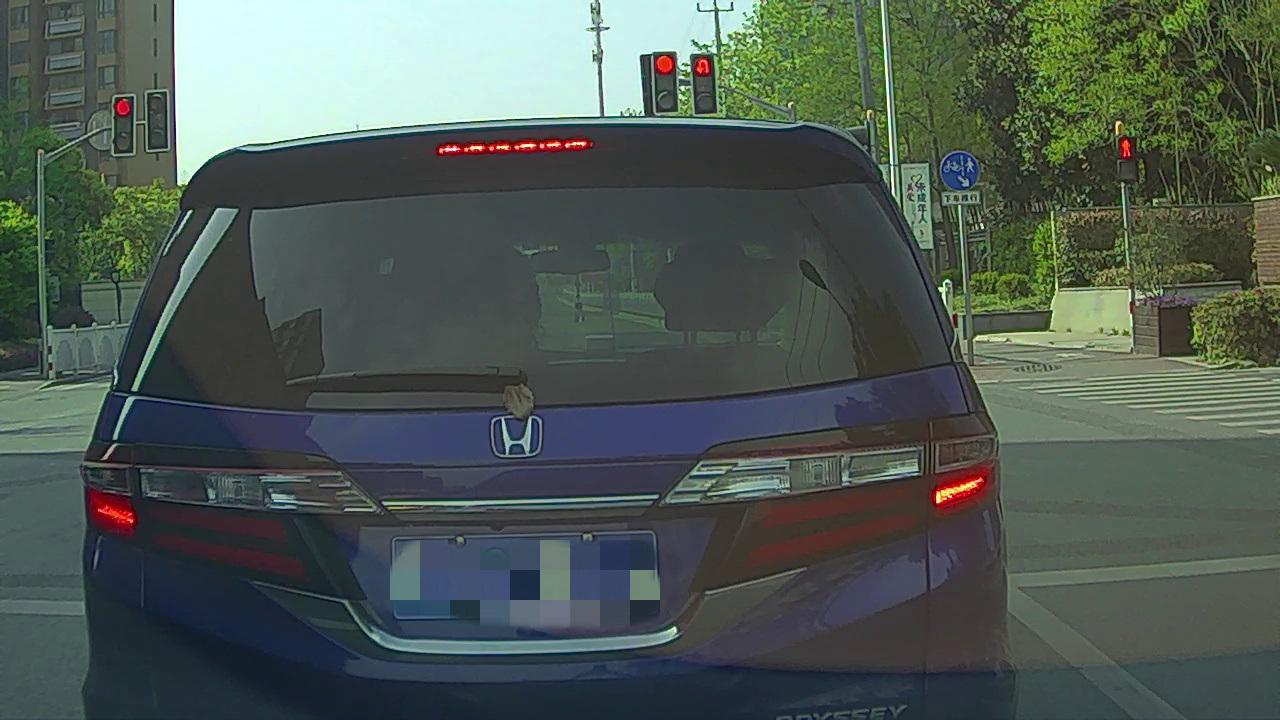traffic_light: (653, 52, 679, 114), (692, 53, 716, 115), (112, 96, 133, 155), (147, 92, 167, 152)
